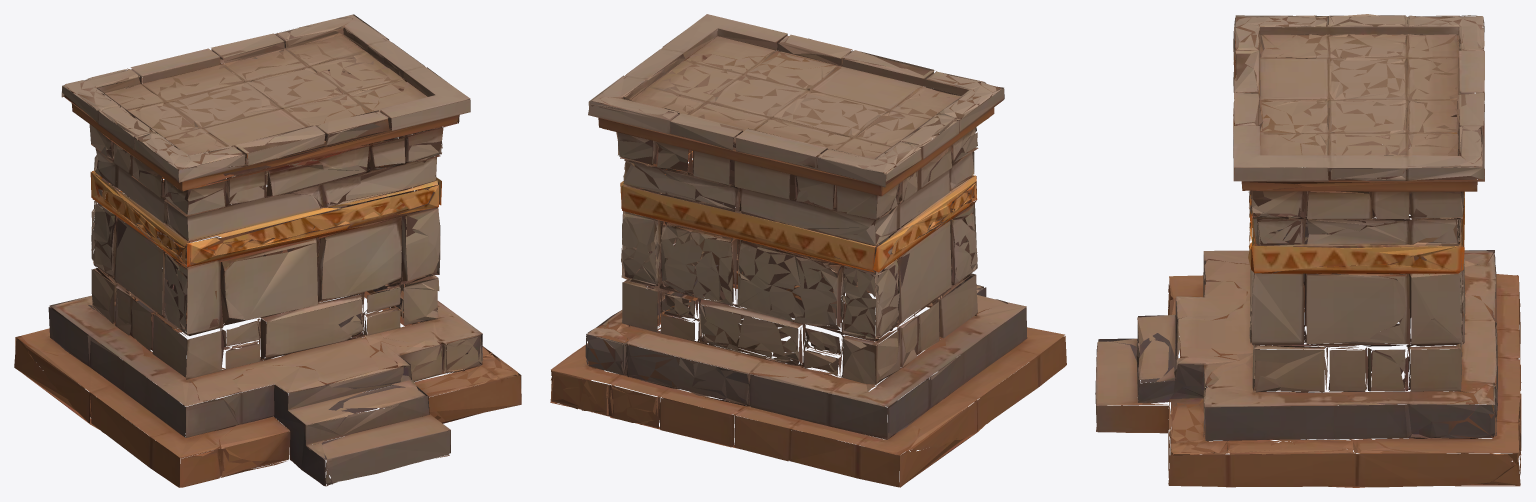
The model's file is altar.glb.
The picture shows the model from 3 angles, left to right: view 1: azimuth 30°, elevation 25°; view 2: azimuth 150°, elevation 25°; view 3: azimuth 270°, elevation 25°; orthographic projection. The views are drawn at different scales.
Parts seen in each view (by area): view 1: material; view 2: material; view 3: material.
Boxes of the visible parts, x1,y1,x2,y2 form: material: [14, 14, 521, 487]; material: [550, 14, 1066, 487]; material: [1095, 14, 1521, 487].
Bounding box in the file's own units: 1.13 × 0.9186 × 1.13.
1 material, 1 textured.
